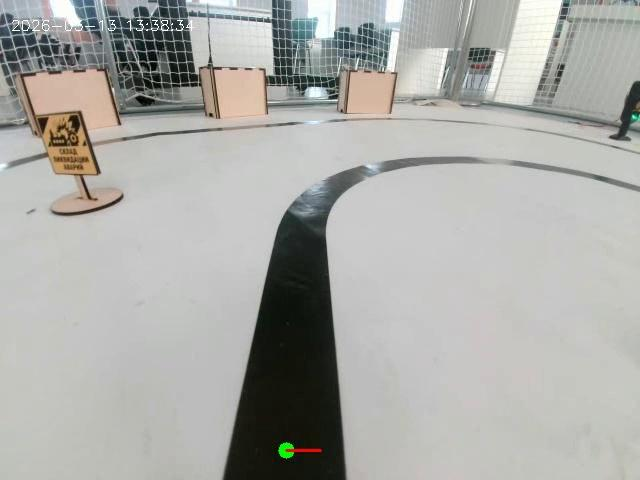industrial: (27, 103, 112, 217)
